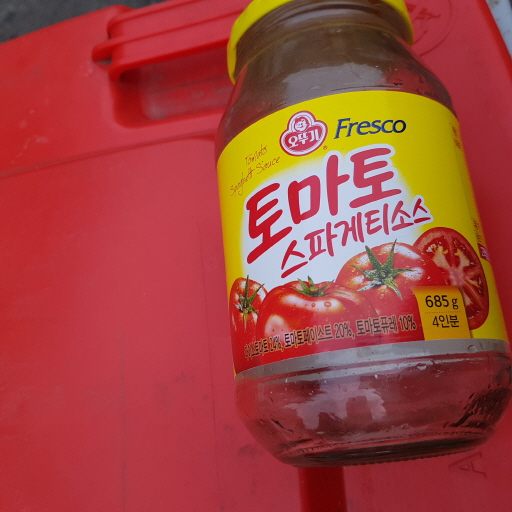Glass_5: (213, 1, 510, 466)
